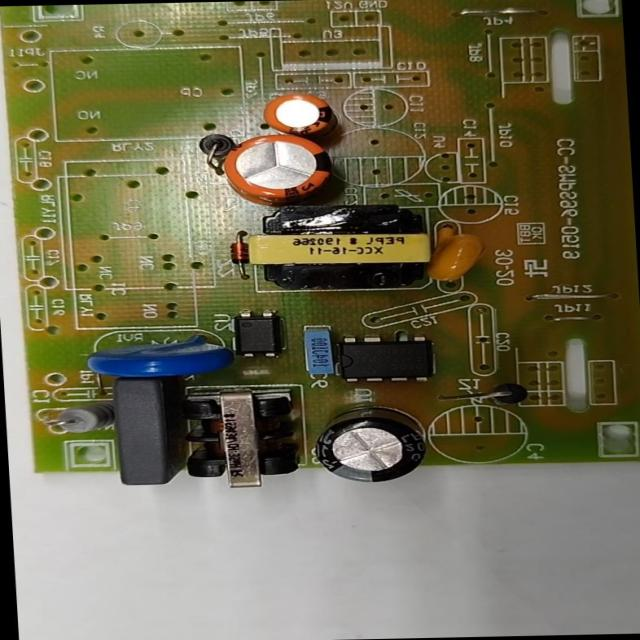Cap1: (220, 133, 334, 204)
Cap2: (264, 92, 331, 132)
Cap3: (314, 403, 423, 484)
MOSFET: (336, 336, 429, 384)
Mov: (85, 336, 223, 376)
Resistor: (49, 401, 114, 434)
Transformer: (243, 204, 433, 293), (187, 391, 296, 489)
